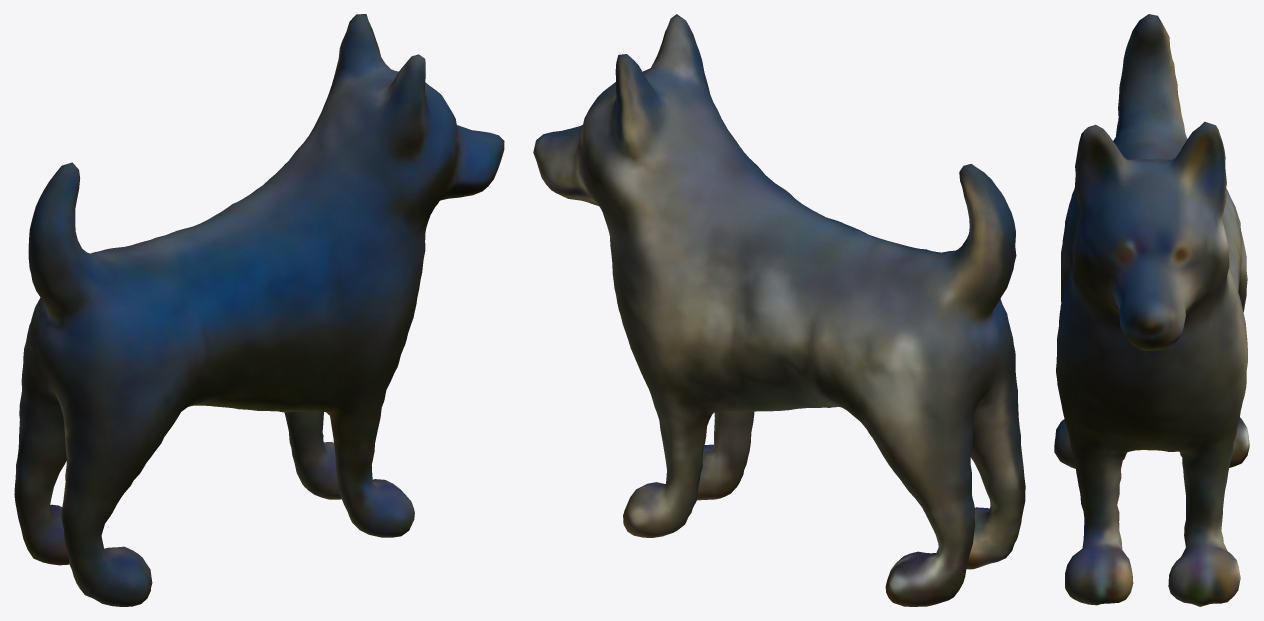
The model's file is 049_Create_dog_with_Oval_face_with_bright_eyes_a_friendly__0614163338_preview.obj.
3 renders of one model, left to right at view 1: azimuth 30°, elevation 25°; view 2: azimuth 150°, elevation 25°; view 3: azimuth 270°, elevation 25°, orthographic. The views are drawn at different scales.
Visible parts, largest first — view 1: Mesh1; view 2: Mesh1; view 3: Mesh1.
Part boxes in pixels (<box>): Mesh1: <box>14,14,504,606</box>; Mesh1: <box>533,14,1025,606</box>; Mesh1: <box>1054,14,1249,606</box>.
Size of the model in its own units: 1.2 by 1.15 by 0.4114.
1 material, 1 textured.
